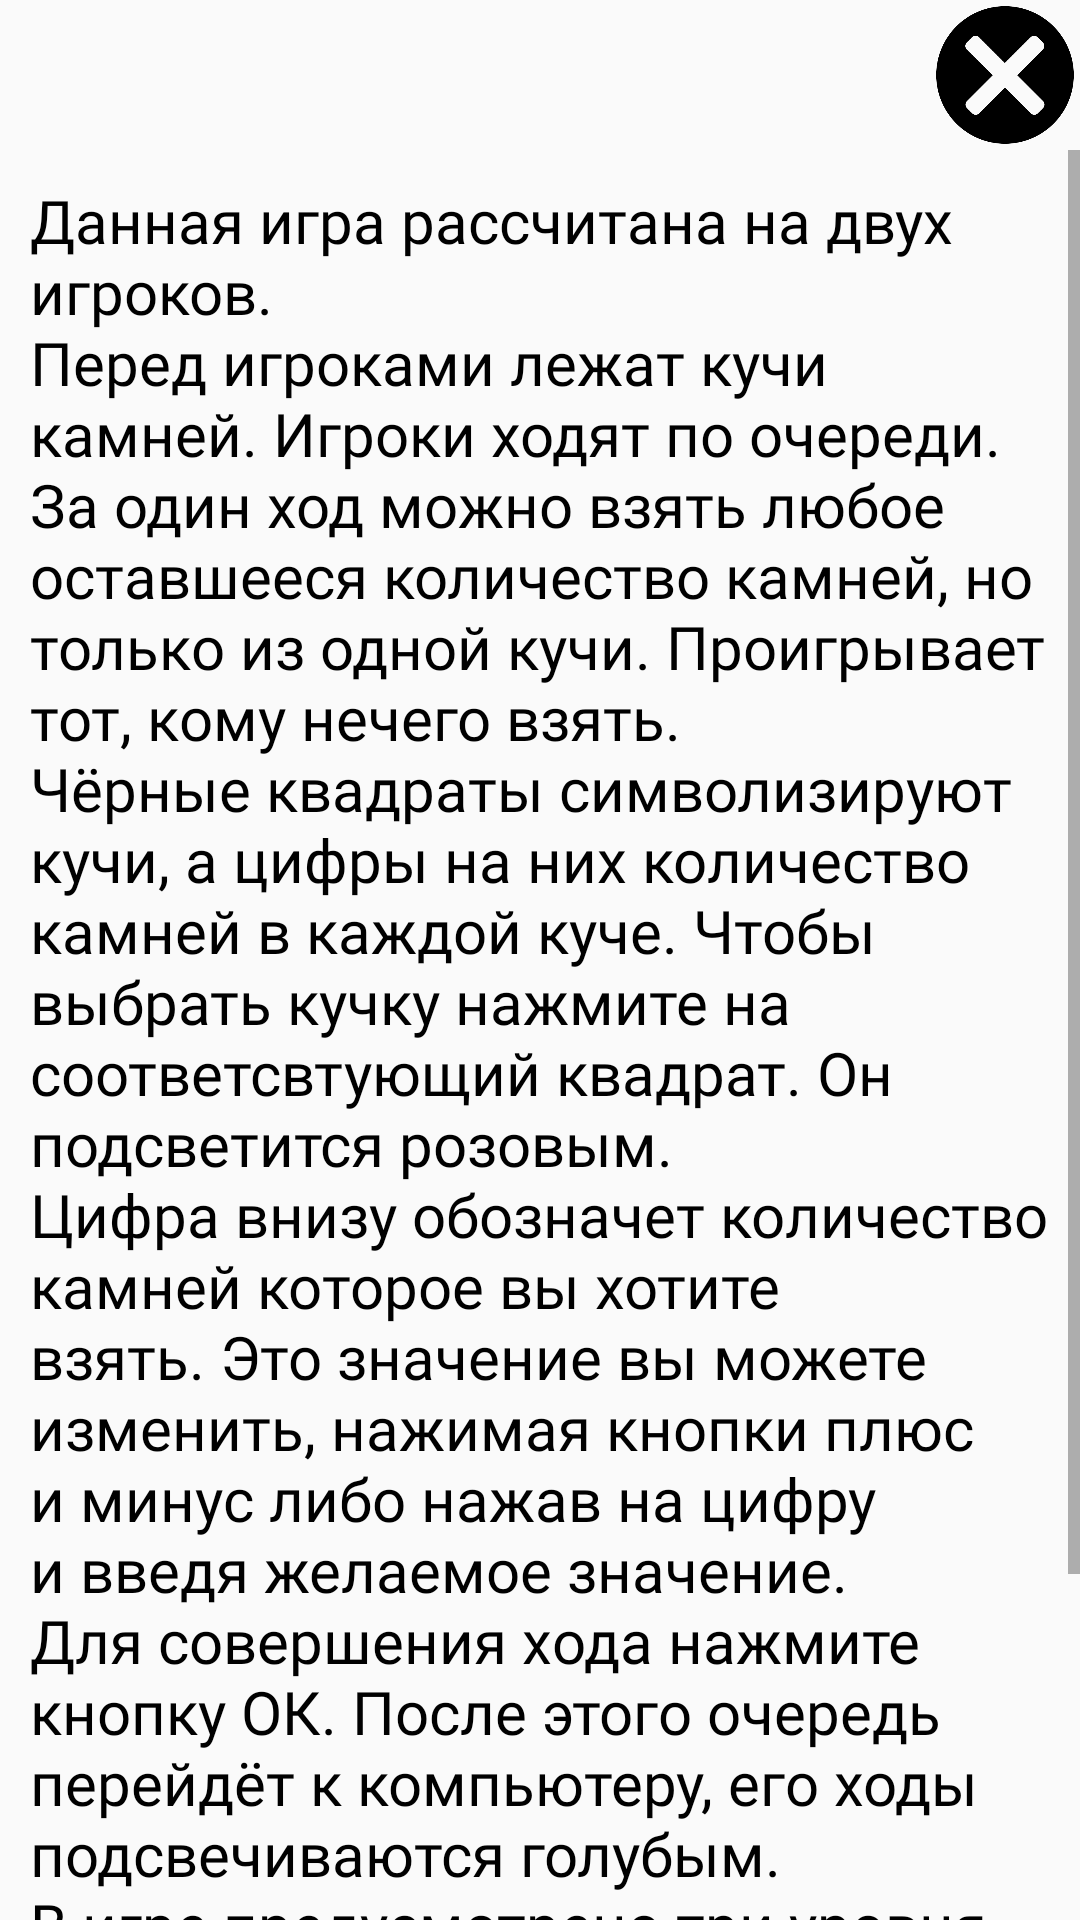

Icons on this 1080 x 1920 Android screen, each with its box as (x1, y1, x2, y2):
close: (936, 6, 1074, 144)
